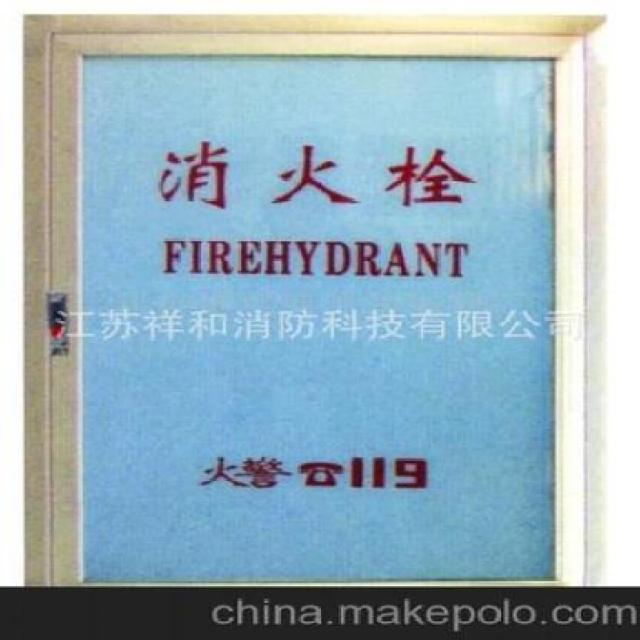firehydrant: (14, 8, 615, 587)
